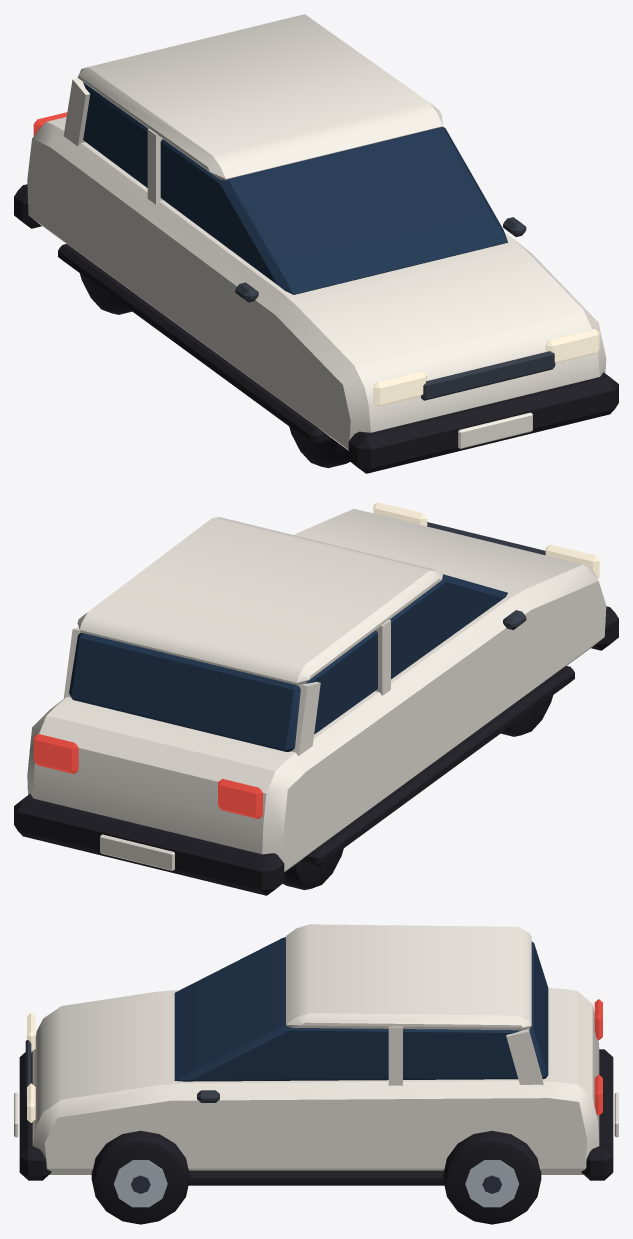
Rendered from hatchback.glb.
The picture shows the model from 3 angles, top to bottom: view 1: azimuth 30°, elevation 25°; view 2: azimuth 150°, elevation 25°; view 3: azimuth 270°, elevation 25°; orthographic projection. The views are drawn at different scales.
Parts seen in each view (by area): view 1: hatchback; view 2: hatchback; view 3: hatchback.
Part boxes in pixels (box(x1,y1,x2,y2)): hatchback: box(14, 14, 618, 473); hatchback: box(14, 502, 618, 895); hatchback: box(14, 924, 618, 1224).
Size of the model in its own units: 1.97 by 1.52 by 4.2.
4 materials, 4 textured.
